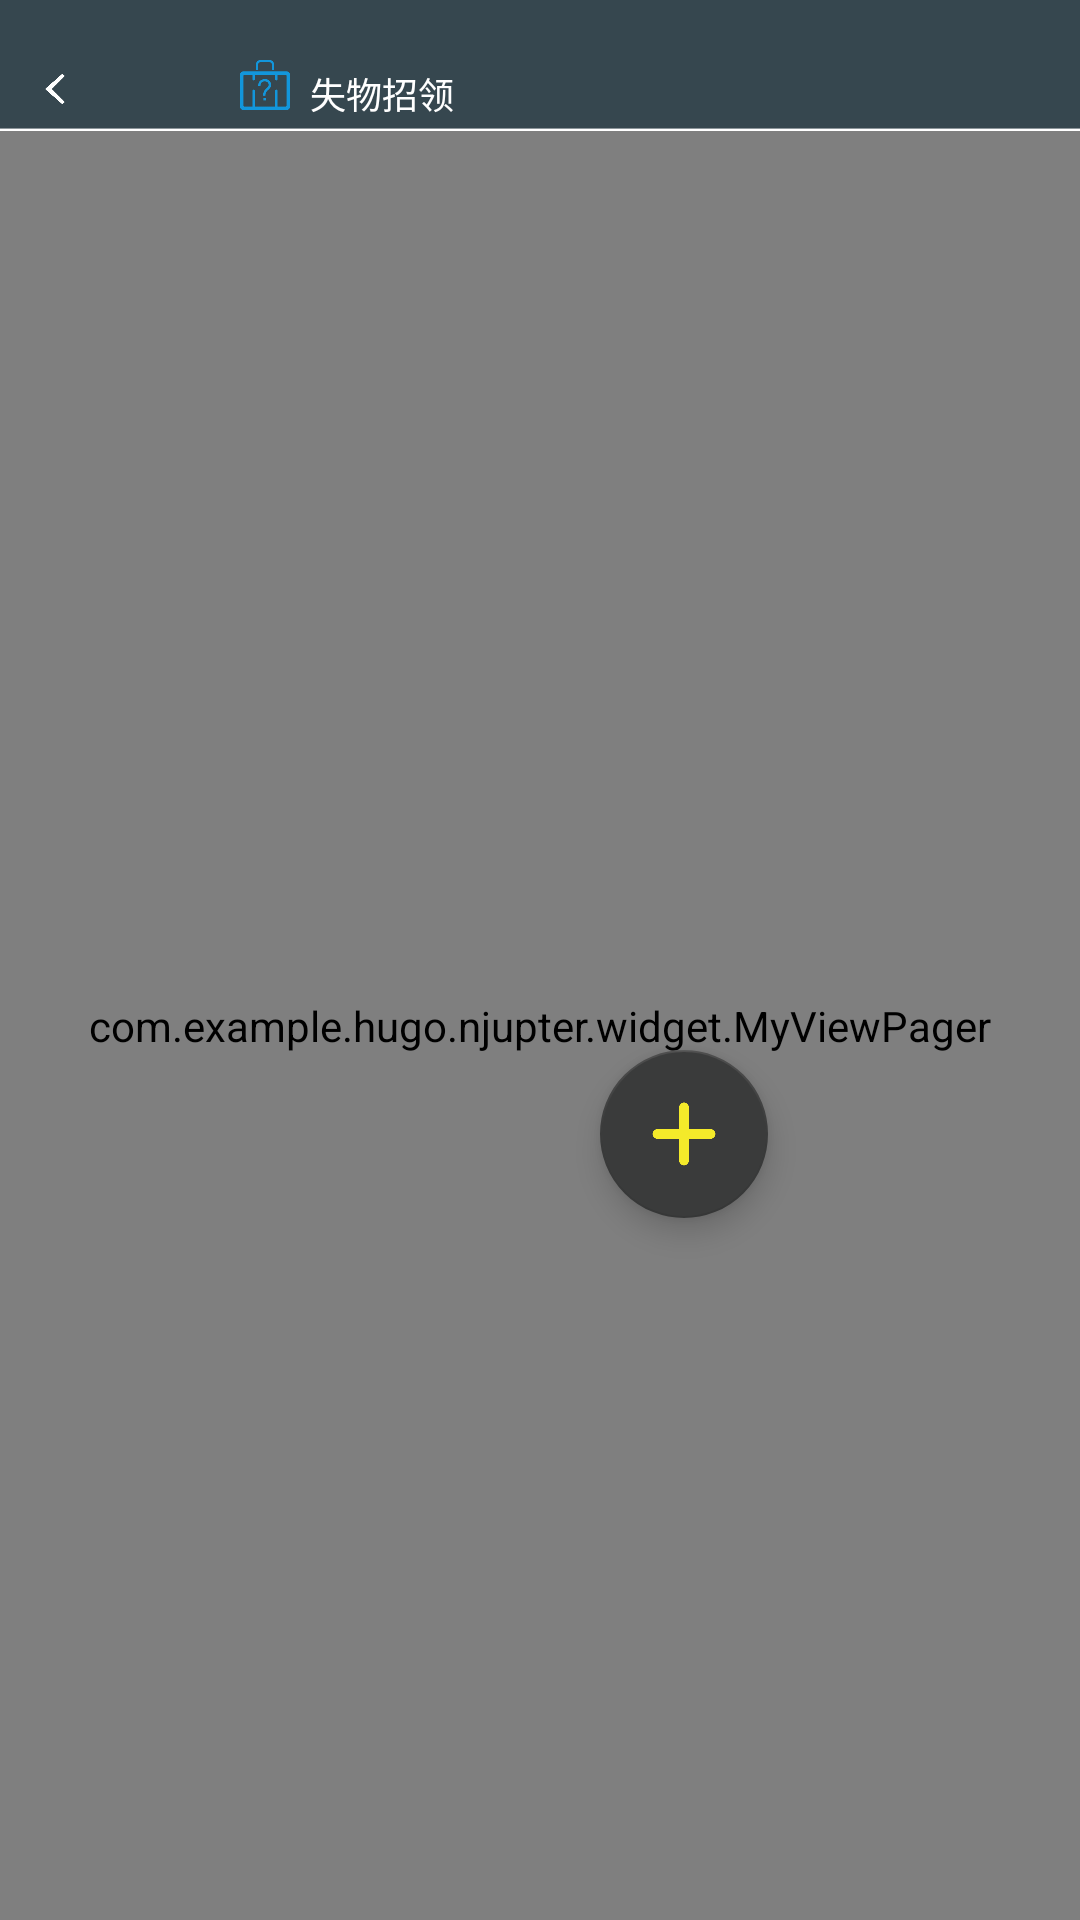

Icon bounding boxes for this 1080w x 1920h phone screenshot, format detection(x1, y1, x2, y2):
adds: detection(600, 1050, 768, 1218)
back: detection(45, 74, 65, 104)
